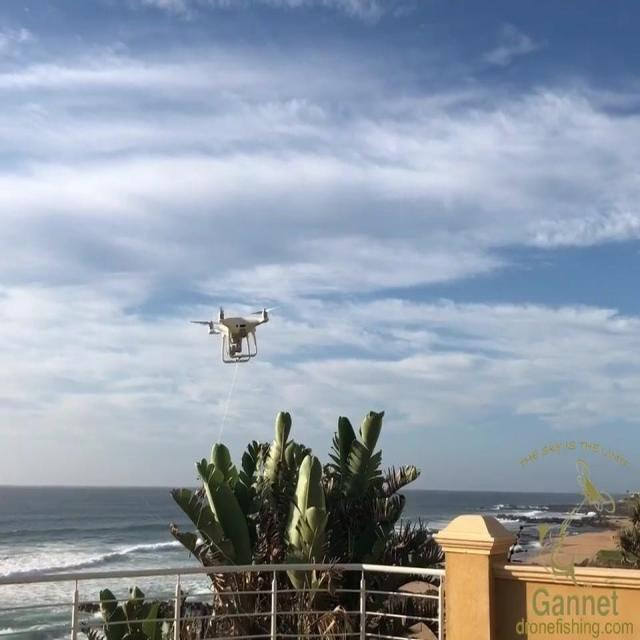UAV: (190, 307, 280, 363)
